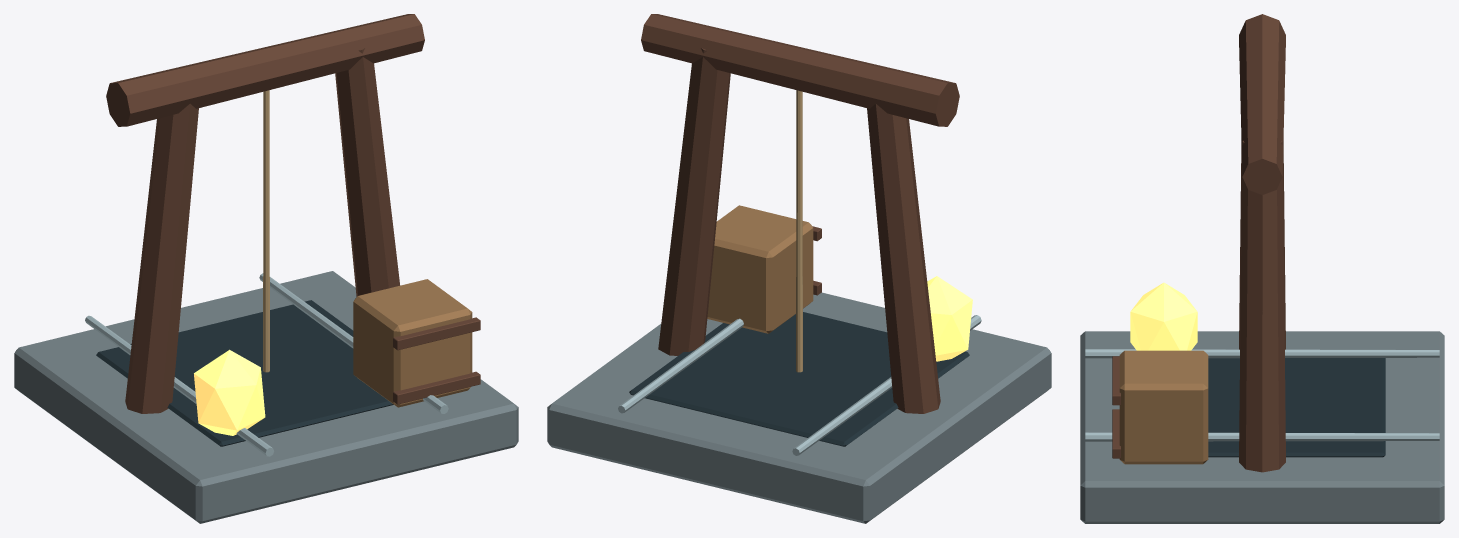
File: mine.glb
3 renders of one model, left to right at view 1: azimuth 30°, elevation 25°; view 2: azimuth 150°, elevation 25°; view 3: azimuth 270°, elevation 25°, orthographic. The views are drawn at different scales.
Parts seen in each view (by area): view 1: Geometry, DeepOreBlock; view 2: Geometry, DeepOreBlock; view 3: Geometry, DeepOreBlock.
Part boxes in pixels (bbox=[...]): Geometry: bbox=[14, 14, 518, 523]; DeepOreBlock: bbox=[194, 349, 265, 435]; Geometry: bbox=[547, 14, 1051, 523]; DeepOreBlock: bbox=[927, 276, 972, 361]; Geometry: bbox=[1080, 14, 1444, 523]; DeepOreBlock: bbox=[1130, 282, 1197, 350].
Bounding box in the file's own units: 1.85 × 2.04 × 1.85.
